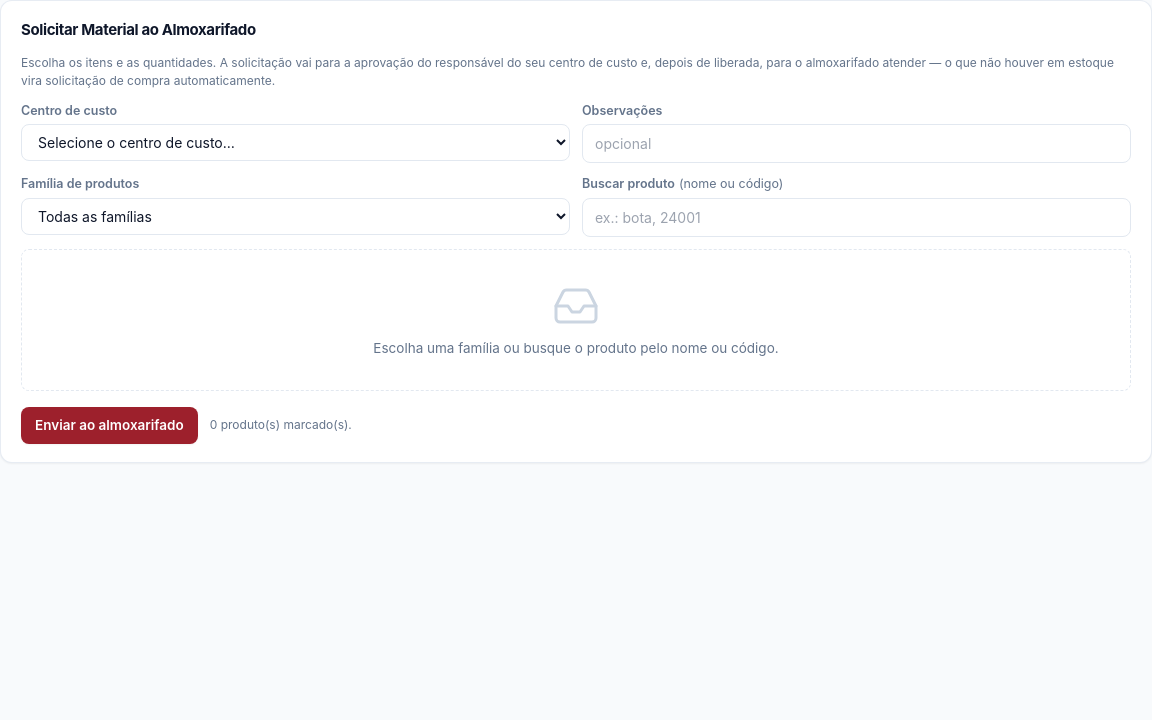
Test: tela Solicitar Material › EPI sem C.A. não pode ser marcado e a tela diz o porquê (IC-ERR-023)
Step 1. Select "EPI" in the dropdown labelled "Família de produtos" → (296, 216), box 21,198 -> 570,235
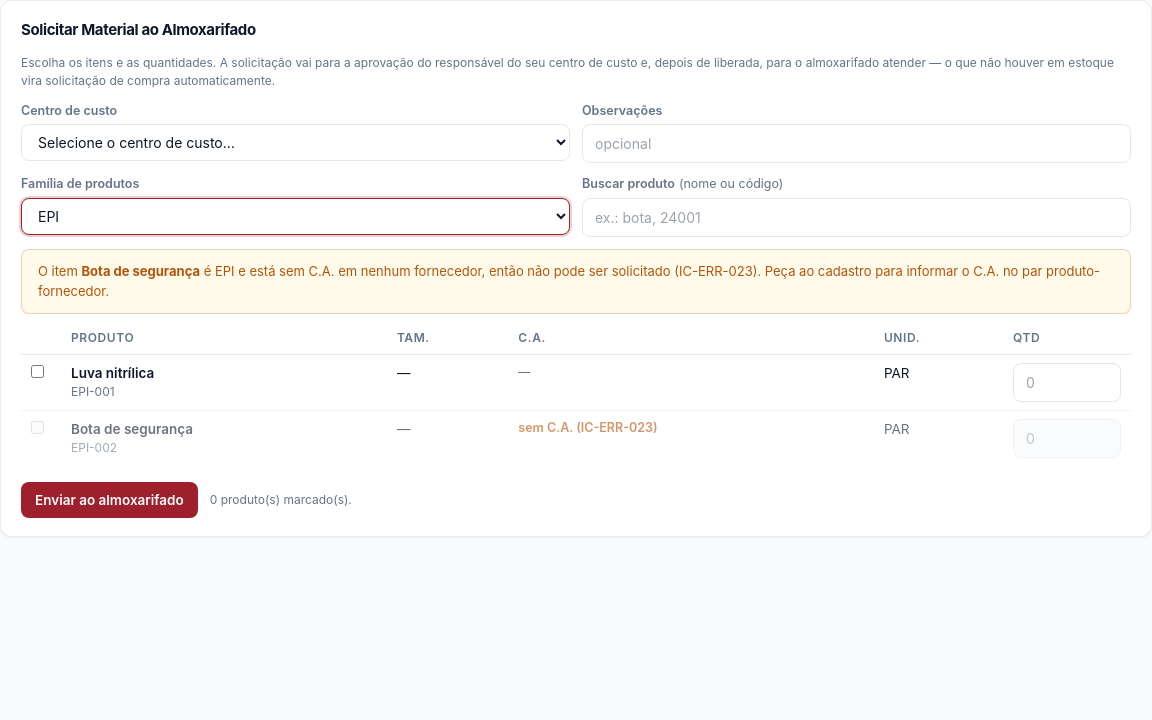
Check: the checkbox named "Selecionar Bota de segurança" is disabled, box 31,421 -> 44,434
Check: the number field named "Quantidade de Bota de segurança" is disabled, box 1013,419 -> 1121,458
Check: the element with test id "epi-sem-ca" shows "IC-ERR-023", box 38,263 -> 1100,298
